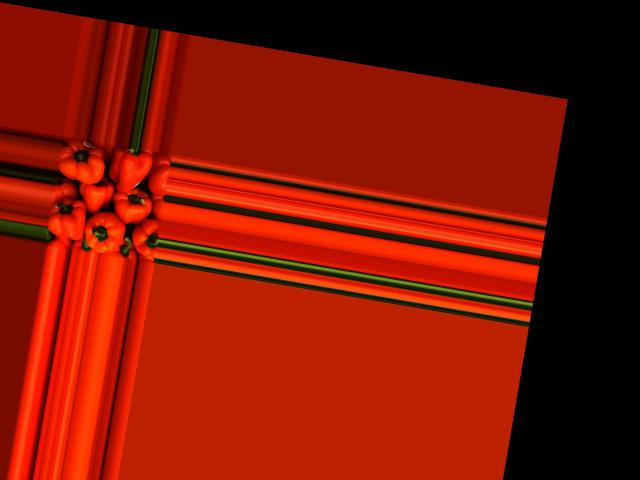bell_pepper: (146, 150, 171, 196)
